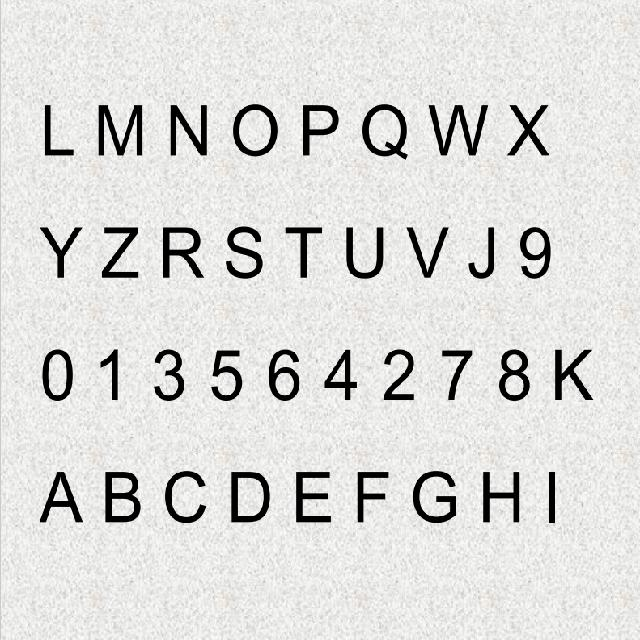0: (42, 343, 74, 406)
1: (97, 343, 119, 404), (544, 465, 564, 531)
2: (382, 342, 414, 406)
3: (150, 344, 184, 404)
4: (323, 343, 357, 405)
5: (209, 343, 244, 405)
6: (266, 342, 300, 405)
7: (438, 345, 471, 402)
8: (498, 347, 528, 404)
9: (521, 223, 553, 283)
A: (37, 462, 84, 529)
B: (105, 466, 144, 528)
C: (162, 464, 208, 529)
D: (226, 466, 270, 530)
E: (290, 465, 333, 525)
F: (352, 468, 390, 524)
L: (41, 97, 75, 163)
Q: (360, 104, 406, 166)
R: (163, 227, 206, 285)
S: (225, 220, 264, 285)
T: (287, 216, 324, 283)
U: (344, 222, 385, 284)
W: (425, 102, 487, 162)
X: (506, 95, 551, 161)
Y: (37, 223, 80, 287)
Z: (101, 222, 141, 283)
